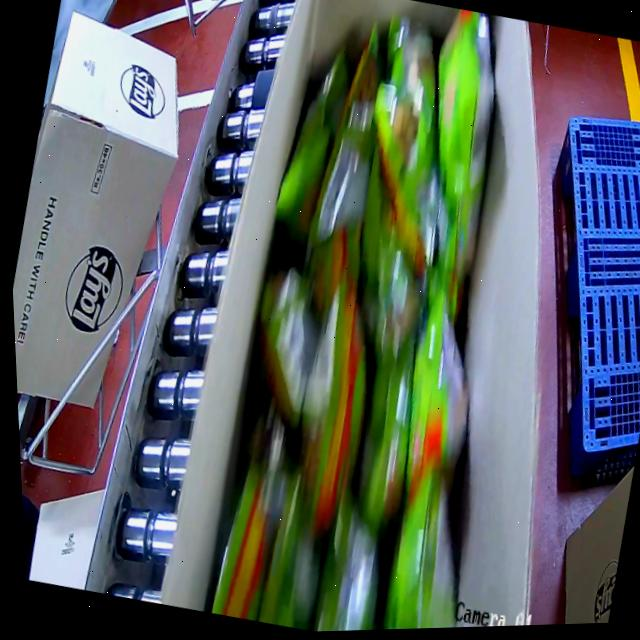YOGURT_HERB: (182, 0, 580, 635)
